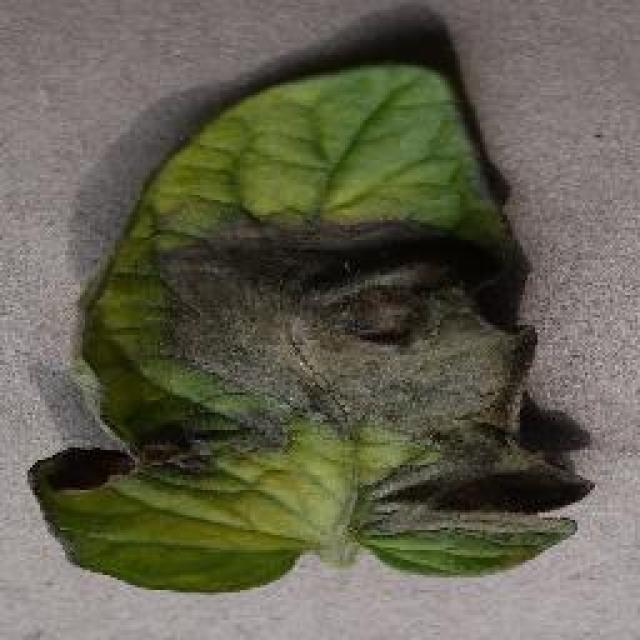Tomato Late Blight: (120, 188, 580, 434)
